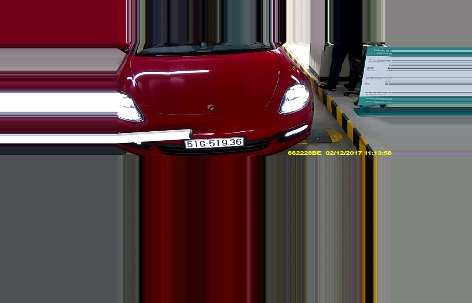plate: (184, 136, 244, 148)
